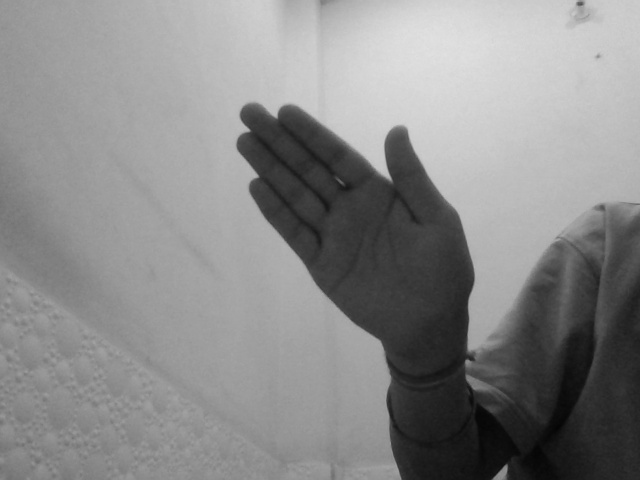Hello: (235, 100, 477, 352)
